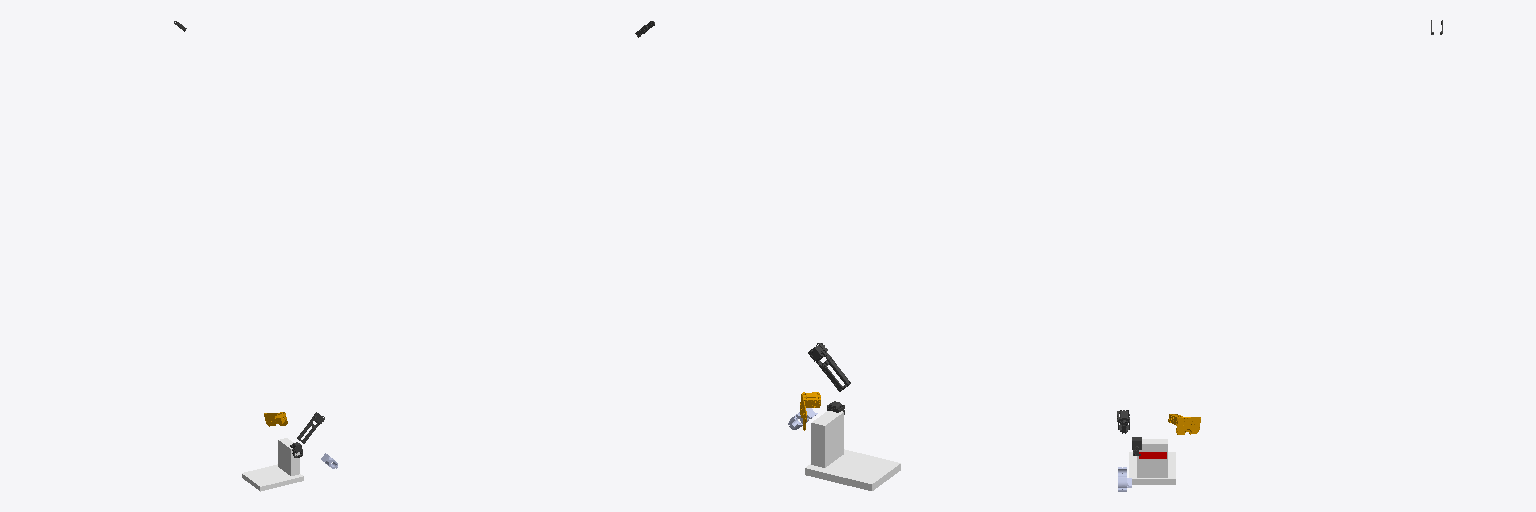
URDF robot description (ping-pong):
<?xml version="1.0" encoding="utf-8"?>
<!-- This URDF was automatically created by SolidWorks to URDF Exporter! Originally created by Stephen Brawner ([email redacted]) 
     Commit Version:   Build Version: 1.6.9102.25287
     For more information, please see http://wiki.ros.org/sw_urdf_exporter -->
<robot
  name="ping-pong">
  <link
    name="base_link">
    <inertial>
      <origin
        xyz="0 0 0"
        rpy="0 0 0" />
      <mass
        value="0.0468580060932661" />
      <inertia
        ixx="1.56534574192188E-05"
        ixy="6.61087369064978E-07"
        ixz="-7.21642700260539E-07"
        iyy="1.29229800207445E-05"
        iyz="5.02340603686712E-06"
        izz="1.41194963510472E-05" />
    </inertial>
    <visual>
      <origin xyz="-0.09 -0.04 0.605" rpy="0.45 1.6 1.35"/>
      <geometry>
        <mesh filename="package://ping-pong/meshes/base_link.STL"/>
      </geometry>
    </visual>
    <visual>
      <origin xyz="-0.085 0.05 0.16" rpy="0 0 0"/>
      <geometry>
        <box size="0.2 0.15 0.02"/>
      </geometry>
      <material name="black">
        <color rgba="1 1 1 0.5"/>
      </material>
    </visual>
        <visual>
      <origin xyz="-0.01 0.05 0.22" rpy="0 0 0"/>
      <geometry>
        <box size="0.04 0.1 0.14"/>
      </geometry>
      <material name="black">
        <color rgba="1 1 1 0.5"/>
      </material>
    </visual>
    <collision>
        <origin xyz="0 0 0.15" rpy="0 0 0"/>
      <geometry>
        <box size="0.2 0.2 0.3"/>
      </geometry>
    </collision>
  </link>
  <link
    name="upper_shoulder">
    <inertial>
      <origin
        xyz="0.0129549305137396 -0.0148664141809147 -0.0276892742587567"
        rpy="0 0 0" />
      <mass
        value="0.0335476434855063" />
      <inertia
        ixx="3.81490155615431E-06"
        ixy="1.21543917806917E-08"
        ixz="2.11998108883291E-08"
        iyy="4.64648709409639E-06"
        iyz="9.45842330050794E-09"
        izz="3.45395092938991E-06" />
    </inertial>
    <visual>
      <origin
        xyz="0 0 0"
        rpy="0 0 0" />
      <geometry>
        <mesh
          filename="package://ping-pong/meshes/upper_shoulder.STL" />
      </geometry>
      <material
        name="">
        <color
          rgba="0.298039215686275 0.298039215686275 0.298039215686275 1" />
      </material>
    </visual>
    <collision>
      <origin
        xyz="0 0 0"
        rpy="0 0 0" />
      <geometry>
        <mesh
          filename="package://ping-pong/meshes/upper_shoulder.STL" />
      </geometry>
    </collision>
  </link>
  <joint
    name="upper_shoulder"
    type="revolute">
    <origin
      xyz="0 0 0.3"
      rpy="-1.57 -1.57 0" />
    <parent
      link="base_link" />
    <child
      link="upper_shoulder" />
    <axis
      xyz="0 0 1" />
    <limit
      lower="-1"
      upper="0"
      effort="0"
      velocity="10" />
  </joint>
  <link
    name="lower_shoulder">
    <inertial>
      <origin
        xyz="-6.29007393652889E-05 -0.0773879745241495 -2.62161943492267E-05"
        rpy="0 0 0" />
      <mass
        value="0.0576719241727569" />
      <inertia
        ixx="1.7120909538195E-05"
        ixy="9.45797260721662E-09"
        ixz="-1.21542702244487E-08"
        iyy="4.4501235896574E-06"
        iyz="-2.11998275069902E-08"
        izz="1.64179743238391E-05" />
    </inertial>
    <visual>
      <origin
        xyz="0 0 0"
        rpy="0 0 0" />
      <geometry>
        <mesh
          filename="package://ping-pong/meshes/lower_shoulder.STL" />
      </geometry>
      <material
        name="">
        <color
          rgba="0.298039215686275 0.298039215686275 0.298039215686275 1" />
      </material>
    </visual>
    <collision>
      <origin
        xyz="0 0 0"
        rpy="0 0 0" />
      <geometry>
        <mesh
          filename="package://ping-pong/meshes/lower_shoulder.STL" />
      </geometry>
    </collision>
  </link>
  <joint
    name="lower_shoulder"
    type="revolute">
    <origin
      xyz="0.033 -0.0145 -0.041"
      rpy="-2.35 -1.5708 0" />
    <parent
      link="upper_shoulder" />
    <child
      link="lower_shoulder" />
    <axis
      xyz="0 1 0" />
    <limit
      lower="-2.7"
      upper="0.75"
      effort="0"
      velocity="10" />
  </joint>
  <link
    name="upper_arm">
    <inertial>
      <origin
        xyz="-0.00733809185080686 9.50609948116299E-05 -0.00741154132403037"
        rpy="0 0 0" />
      <mass
        value="0.0214573443165031" />
      <inertia
        ixx="2.31688951311032E-06"
        ixy="3.18660578583586E-09"
        ixz="2.10545109019354E-08"
        iyy="3.0075651917683E-06"
        iyz="1.16767658606973E-08"
        izz="2.83620449126694E-06" />
    </inertial>
    <visual>
      <origin
        xyz="0 0 0"
        rpy="0 0 0" />
      <geometry>
        <mesh
          filename="package://ping-pong/meshes/upper_arm.STL" />
      </geometry>
      <material
        name="">
        <color
          rgba="0.298039215686275 0.298039215686275 0.298039215686275 1" />
      </material>
    </visual>
    <collision>
      <origin
        xyz="0 0 0"
        rpy="0 0 0" />
      <geometry>
        <mesh
          filename="package://ping-pong/meshes/upper_arm.STL" />
      </geometry>
    </collision>
  </link>
  <joint
    name="upper_arm"
    type="revolute">
    <origin
      xyz="0 -0.1 0"
      rpy="-1.5708 0 -1.5708" />
    <parent
      link="lower_shoulder" />
    <child
      link="upper_arm" />
    <axis
      xyz="0 -1 0" />
    <limit
      lower="-0.7"
      upper="0.7"
      effort="0"
      velocity="10" />
  </joint>
  <link
    name="lower_arm">
    <inertial>
      <origin
        xyz="0.0905172935969401 0.0166000014024307 0.0144645438816075"
        rpy="0 0 0" />
      <mass
        value="0.00518942527154281" />
      <inertia
        ixx="1.15670084412165E-07"
        ixy="5.45570467748176E-14"
        ixz="6.63380350348761E-09"
        iyy="9.48396463628822E-07"
        iyz="-5.87125231080151E-15"
        izz="1.02989357855173E-06" />
    </inertial>
    <visual>
      <origin
        xyz="1 1 1"
        rpy="0 0 0" />
      <geometry>
        <mesh
          filename="package://ping-pong/meshes/lower_arm.STL" />
      </geometry>
      <material
        name="">
        <color
          rgba="0.298039215686275 0.298039215686275 0.298039215686275 1" />
      </material>
    </visual>
    <collision>
      <origin
        xyz="0 0 0"
        rpy="0 0 0" />
      <geometry>
        <mesh
          filename="package://ping-pong/meshes/lower_arm.STL" />
      </geometry>
    </collision>
  </link>
  <joint
    name="lower_arm"
    type="revolute">
    <origin
      xyz="0 0 -0.02"
      rpy="0 0 3.1416" />
    <parent
      link="upper_arm" />
    <child
      link="lower_arm" />
    <axis
      xyz="0 0 -1" />
    <limit
      lower="-1.5"
      upper="1.5"
      effort="0"
      velocity="10" />
  </joint>
  <link
    name="hand">
    <inertial>
      <origin
        xyz="-1 0.0165410815195246 0.0167804968470659"
        rpy="0 0 0" />
      <mass
        value="0.0425234840552025" />
      <inertia
        ixx="5.46948254274658E-06"
        ixy="-4.38387714935454E-10"
        ixz="9.10215745459036E-07"
        iyy="2.00650338164068E-05"
        iyz="1.25447234705641E-09"
        izz="1.69147927720201E-05" />
    </inertial>
    <visual>
      <origin
        xyz="0 0 0"
        rpy="0 0 0" />
      <geometry>
        <mesh
          filename="package://ping-pong/meshes/hand.STL" />
      </geometry>
      <material
        name="">
        <color
          rgba="0.792156862745098 0.819607843137255 0.933333333333333 1" />
      </material>
    </visual>
    <collision>
      <origin
        xyz="0 0 0"
        rpy="0 0 0" />
      <geometry>
        <mesh
          filename="package://ping-pong/meshes/hand.STL" />
      </geometry>
    </collision>
  </link>
  <joint
    name="hand"
    type="fixed">
    <origin
      xyz="-0.11 0 0"
      rpy="0 0 0" />
    <parent
      link="lower_arm" />
    <child
      link="hand" />
    <axis
      xyz="0 0 0" />
  </joint>
<joint name="front_right_wheel_joint" type="continuous">
   <limit effort="100" velocity="6.55"/>
   <parent link="base_link"/>
   <child link="front_right_wheel_link"/>
   <axis xyz="-1. 0. 0."/>
   <origin xyz="0 -0.03 0.16" rpy="0.0 -0.0 1.5708"/>
</joint>

<joint name="front_left_wheel_joint" type="continuous">
   <limit effort="100" velocity="6.55"/>
   <parent link="base_link"/>
   <child link="front_left_wheel_link"/>
   <axis xyz="1. 0. 0."/>
   <origin xyz="0 0.13 0.16" rpy="0.0 -0.0 1.5708"/>
</joint>

<joint name="rear_right_wheel_joint" type="continuous">
   <limit effort="100" velocity="6.55"/>
   <parent link="base_link"/>
   <child link="rear_right_wheel_link"/>
   <axis xyz="-1. 0. 0."/>
   <origin xyz="-0.17 -0.03 0.16" rpy="0.0 -0.0 1.5708"/>
</joint>

<joint name="rear_left_wheel_joint" type="continuous">
   <limit effort="100" velocity="6.55"/>
   <parent link="base_link"/>
   <child link="rear_left_wheel_link"/>
   <axis xyz="1. 0. 0."/>
   <origin xyz="-0.17 0.13 0.16" rpy="0.0 -0.0 1.5708"/>
</joint>
  <link name="front_right_wheel_link">
    <inertial>
      <!-- <origin xyz="0.0344932842136683 0.0970000970916309 -0.0435000024416005" rpy="0.0 -0.0 0.0"/> -->
      <!-- <mass value="0.0620356799852319"/> -->
      <!-- <!-\- <inertia ixx="1.17891072454946e-05" ixy="-4.41939757993746e-11" ixz="2.8155029764713e-12" iyy="9.70723532361731e-06" iyz="2.3526216007568e-12" izz="9.707219297398e-06"/> -\-> -->
      <!-- <inertia ixx="1.000000e-04" ixy="-4.41939757993746e-11" ixz="2.8155029764713e-12" iyy="1.000000e-04" iyz="2.3526216007568e-12" izz="1.000000e-04"/> -->
      <mass value="0.095024" />
      <origin xyz="-6.93889e-18 0.016915 0" rpy="0 -0 0"/>
      <inertia ixx="0.000174" ixy="5.9261e-22" ixz="5.04911e-20" iyy="0.000173" iyz="-1.9762e-20" izz="0.000262"/>

    </inertial>
    <visual>
      <geometry>
        <mesh filename="package://ping-pong/meshes/front_right_wheel_link.dae"/>
      </geometry>
      <material name=""/>
      <origin xyz="0.0505000000000009 0.097 -0.0434999999999994" rpy="0.0 -0.0 0.0"/>
      <!-- <origin xyz="-0.02 0 0" rpy="0 1.5707963267948966 0"/> -->
      <!-- <geometry> -->
      <!--   <cylinder radius="0.03" length="0.02"/> -->
      <!-- </geometry> -->
    </visual>
    <!-- <collision> -->
    <!--   <geometry> -->
    <!--     <mesh filename="package://jedy_description/meshes/front_right_wheel_link.stl"/> -->
    <!--   </geometry> -->
    <!--   <origin xyz="0.0505000000000009 0.097 -0.0434999999999994" rpy="0.0 -0.0 0.0"/> -->
    <!-- </collision> -->
    <collision>
      <origin xyz="-0.02 0 0" rpy="0 1.5707963267948966 0"/>
      <geometry>
        <cylinder radius="0.03" length="0.02"/>
      </geometry>
      <self_collide>false</self_collide>
    </collision>
  </link>
  <link name="front_left_wheel_link">
    <inertial>
      <!-- <origin xyz="-0.0344932901302818 0.0969999049831629 -0.0435000004047774" rpy="0.0 -0.0 0.0"/> -->
      <!-- <mass value="0.0620331863909222"/> -->
      <!-- <!-\- <inertia ixx="1.17881307318182e-05" ixy="-4.52960489509934e-11" ixz="2.33278294698924e-12" iyy="9.70649490175883e-06" iyz="3.34165767029261e-12" izz="9.7064772842312e-06"/> -\-> -->
      <!-- <inertia ixx="1.000000e-04" ixy="-4.52960489509934e-11" ixz="2.33278294698924e-12" iyy="1.000000e-04" iyz="3.34165767029261e-12" izz="1.000000e-04"/> -->
      <mass value="0.095024" />
      <origin xyz="-6.93889e-18 0.016915 0" rpy="0 -0 0"/>
      <inertia ixx="0.000174" ixy="5.9261e-22" ixz="5.04911e-20" iyy="0.000173" iyz="-1.9762e-20" izz="0.000262"/>

    </inertial>
    <visual>
      <geometry>
        <mesh filename="package://ping-pong/meshes/front_left_wheel_link.dae"/>
      </geometry>
      <material name=""/>
      <origin xyz="-0.0504999999999993 0.0970000000000006 -0.0434999999999985" rpy="0.0 -0.0 0.0"/>
      <!-- <origin xyz="0.02 0 0" rpy="0 1.5707963267948966 0"/> -->
      <!-- <geometry> -->
      <!--   <cylinder radius="0.03" length="0.02"/> -->
      <!-- </geometry> -->
    </visual>
    <!-- <collision> -->
    <!--   <geometry> -->
    <!--     <mesh filename="package://jedy_description/meshes/front_left_wheel_link.stl"/> -->
    <!--   </geometry> -->
    <!--   <origin xyz="-0.0504999999999993 0.0970000000000006 -0.0434999999999985" rpy="0.0 -0.0 0.0"/> -->
    <!-- </collision> -->
    <collision>
      <origin xyz="0.02 0 0" rpy="0 1.5707963267948966 0"/>
      <geometry>
        <cylinder radius="0.03" length="0.02"/>
      </geometry>
      <self_collide>false</self_collide>
    </collision>
  </link>
  <link name="rear_right_wheel_link">
    <inertial>
      <mass value="0.095024" />
      <origin xyz="-6.93889e-18 0.016915 0" rpy="0 -0 0"/>
      <inertia ixx="0.000174" ixy="5.9261e-22" ixz="5.04911e-20" iyy="0.000173" iyz="-1.9762e-20" izz="0.000262"/>

      <!-- <origin xyz="0.0344932842136686 0.0970000970916324 0.0434999975583993" rpy="0.0 -0.0 0.0"/> -->
      <!-- <mass value="0.0620356799852319"/> -->
      <!-- <!-\- <inertia ixx="1.17891072454946e-05" ixy="-4.41939758006981e-11" ixz="2.81550297072405e-12" iyy="9.70723532361731e-06" iyz="2.35262160013476e-12" izz="9.707219297398e-06"/> -\-> -->
      <!-- <inertia ixx="1.000000e-04" ixy="-4.41939758006981e-11" ixz="2.81550297072405e-12" iyy="1.000000e-04" iyz="2.35262160013476e-12" izz="1.000000e-04"/> -->
    </inertial>
    <visual>
      <geometry>
        <mesh filename="package://ping-pong/meshes/rear_right_wheel_link.dae"/>
      </geometry>
      <material name=""/>
      <origin xyz="0.0505000000000012 0.0969999999999992 0.0435000000000006" rpy="0.0 -0.0 0.0"/>
      <!-- <origin xyz="-0.02 0 0" rpy="0 1.5707963267948966 0"/> -->
      <!-- <geometry> -->
      <!--   <cylinder radius="0.03" length="0.02"/> -->
      <!-- </geometry> -->
    </visual>
    <!-- <collision> -->
    <!--   <geometry> -->
    <!--     <mesh filename="package://jedy_description/meshes/rear_right_wheel_link.stl"/> -->
    <!--   </geometry> -->
    <!--   <origin xyz="0.0505000000000012 0.0969999999999992 0.0435000000000006" rpy="0.0 -0.0 0.0"/> -->
    <!-- </collision> -->
    <collision>
      <origin xyz="-0.02 0 0" rpy="0 1.5707963267948966 0"/>
      <geometry>
        <cylinder radius="0.03" length="0.02"/>
      </geometry>
      <self_collide>false</self_collide>
    </collision>
  </link>
  <link name="rear_left_wheel_link">
    <inertial>
      <!-- <origin xyz="-0.0344932901302836 0.0969999049831609 0.0434999995952184" rpy="0.0 -0.0 0.0"/> -->
      <!-- <mass value="0.0620331863909222"/> -->
      <!-- <!-\- <inertia ixx="1.17881307318182e-05" ixy="-4.52960489535212e-11" ixz="2.33278294290793e-12" iyy="9.70649490175883e-06" iyz="3.34165766872427e-12" izz="9.70647728423119e-06"/> -\-> -->
      <!-- <inertia ixx="1.000000e-04" ixy="-4.52960489535212e-11" ixz="2.33278294290793e-12" iyy="1.000000e-04" iyz="3.34165766872427e-12" izz="1.000000e-04"/> -->
      <mass value="0.095024" />
      <origin xyz="-6.93889e-18 0.016915 0" rpy="0 -0 0"/>
      <inertia ixx="0.000174" ixy="5.9261e-22" ixz="5.04911e-20" iyy="0.000173" iyz="-1.9762e-20" izz="0.000262"/>

    </inertial>
    <visual>
      <geometry>
        <mesh filename="package://ping-pong/meshes/rear_left_wheel_link.dae"/>
      </geometry>
      <material name=""/>
      <origin xyz="-0.0504999999999999 0.0969999999999994 0.0435000000000005" rpy="0.0 -0.0 0.0"/>
      <!-- <origin xyz="0.02 0 0" rpy="0 1.5707963267948966 0"/> -->
      <!-- <geometry> -->
      <!--   <cylinder radius="0.03" length="0.02"/> -->
      <!-- </geometry> -->
    </visual>
    <!-- <collision> -->
    <!--   <geometry> -->
    <!--     <mesh filename="package://jedy_description/meshes/rear_left_wheel_link.stl"/> -->
    <!--   </geometry> -->
    <!--   <origin xyz="-0.0504999999999999 0.0969999999999994 0.0435000000000005" rpy="0.0 -0.0 0.0"/> -->
    <!-- </collision> -->
    <collision>
      <origin xyz="0.02 0 0" rpy="0 1.5707963267948966 0"/>
      <geometry>
        <cylinder radius="0.03" length="0.02"/>
      </geometry>
      <self_collide>false</self_collide>
    </collision>
  </link>

  <link name="camera_link">
    <visual>
      <origin xyz="0 0 0" rpy="0 0 0"/>
      <geometry>
        <box size="0.025 0.09 0.025"/>
      </geometry>
      <material name="red">
        <color rgba="1 0 0 1"/>
      </material>
    </visual>
    <collision>
      <origin xyz="0 0 0" rpy="0 0 0"/>
      <geometry>
        <box size="0.025 0.09 0.025"/>
      </geometry>
    </collision>
    <inertial>
      <mass value="0.1"/>
      <origin xyz="0 0 0" rpy="0 0 0"/>
      <inertia ixx="0.001" ixy="0.0" ixz="0.0" iyy="0.001" iyz="0.0" izz="0.001"/>
    </inertial>
  </link>

<joint name="camera_joint" type="fixed">
   <origin xyz="0 0.05 0.25" rpy="0 0 0"/>
   <parent link="base_link"/>
   <child link="camera_link"/>
</joint>

</robot>

--- What the picture shows (computed from the rendered views, not written in the file) ---
The picture shows the robot from 3 angles, left to right: view 1: azimuth 30°, elevation 25°; view 2: azimuth 150°, elevation 25°; view 3: azimuth 270°, elevation 25°; orthographic projection.
Model ping-pong with 11 links and 10 joints (4 revolute, 4 continuous, 2 fixed), rooted at base_link, posed every joint at zero.
Links seen in each view (by area): view 1: base_link; view 2: base_link, lower_shoulder; view 3: base_link.
Boxes of the visible links, box(x1,y1,x2,y2) form: base_link: box(242, 412, 303, 491); base_link: box(800, 392, 900, 490); lower_shoulder: box(808, 343, 850, 391); base_link: box(1129, 414, 1200, 484).
Bounding box of the posed robot: 0.3374 × 1.04 × 1.62 m (x, y, z).
5 mesh visuals loaded from 10 distinct referenced files (5 binary STL); not drawn: 5 (reference not matched to a file when rendering).
